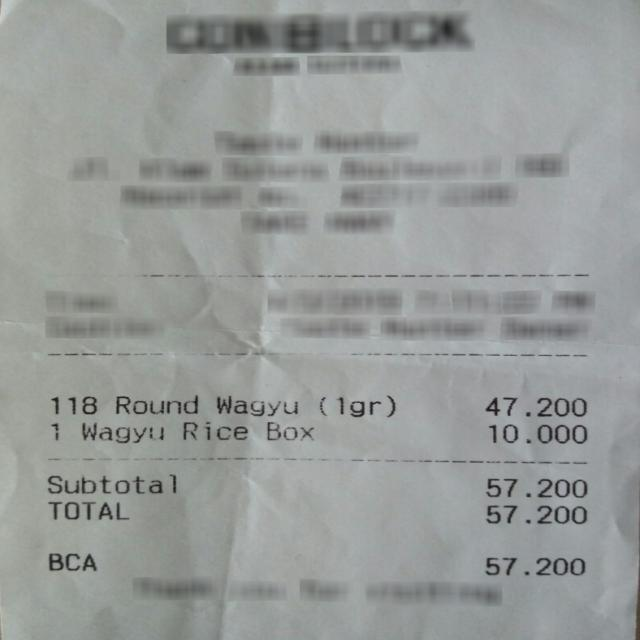text: (46, 473, 176, 494), (485, 397, 584, 416), (485, 478, 584, 497), (485, 503, 584, 522), (488, 424, 586, 442), (485, 556, 582, 574), (81, 421, 162, 442), (46, 500, 130, 520), (319, 394, 394, 416), (217, 395, 296, 415), (115, 394, 196, 413), (181, 420, 247, 439), (265, 420, 311, 439), (50, 396, 95, 414), (47, 553, 94, 570), (48, 420, 59, 441)
